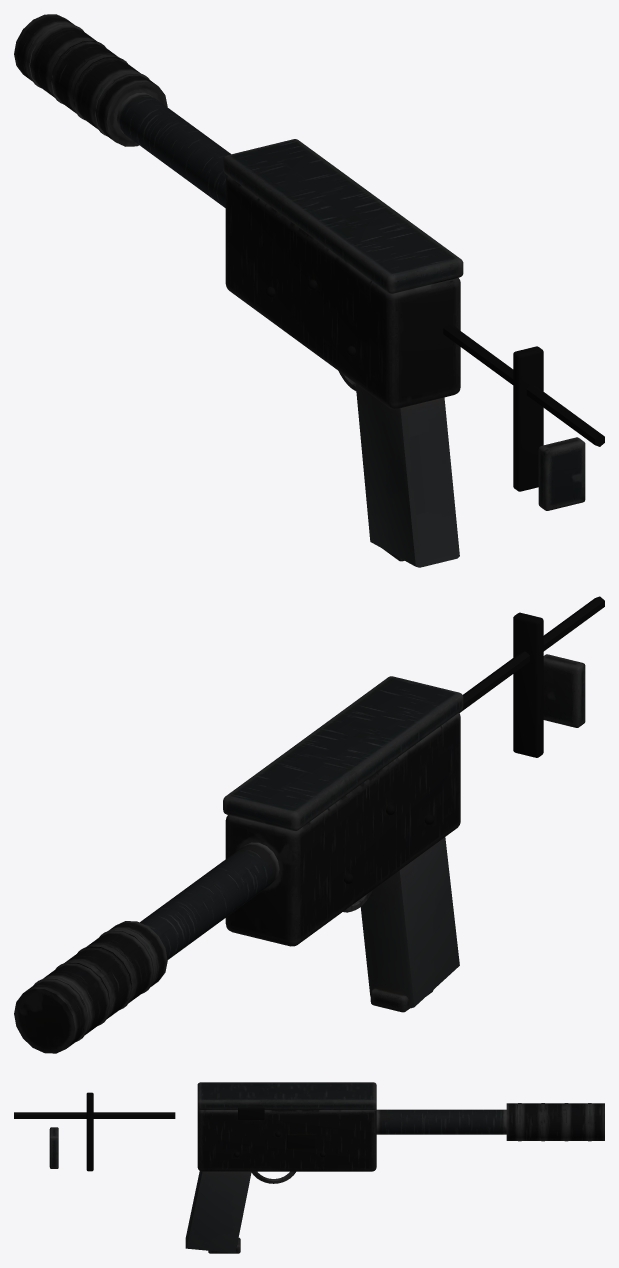
File: mac10.glb
The picture shows the model from 3 angles, top to bottom: view 1: azimuth 30°, elevation 25°; view 2: azimuth 150°, elevation 25°; view 3: azimuth 270°, elevation 25°; orthographic projection. The views are drawn at different scales.
Visible parts, largest first — view 1: body_receiver, body_furniture, body_metal; view 2: body_receiver, body_furniture, body_metal, mag_receiver; view 3: body_receiver, body_furniture, body_metal.
Part boxes in pixels (x1,y1,x2,y2): body_receiver: [14, 14, 585, 510]; body_furniture: [355, 383, 459, 567]; body_metal: [265, 279, 604, 491]; body_receiver: [14, 654, 585, 1053]; body_furniture: [360, 837, 459, 1008]; body_metal: [344, 596, 604, 883]; mag_receiver: [370, 988, 433, 1012]; body_receiver: [49, 1082, 604, 1183]; body_furniture: [185, 1171, 251, 1252]; body_metal: [14, 1092, 325, 1171].
Bounding box in the file's own units: 0.0592 × 0.195 × 0.66.
Materials: 4 (4 with a texture image).
